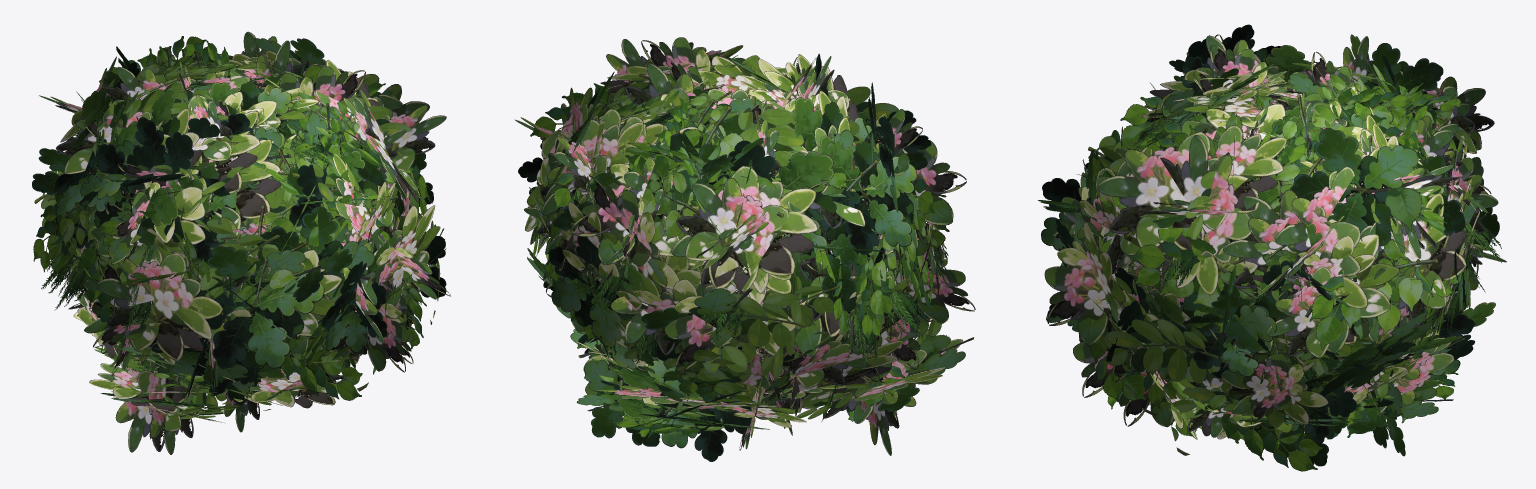
The model's file is bush_flowers.glb.
The picture shows the model from 3 angles, left to right: view 1: azimuth 30°, elevation 25°; view 2: azimuth 150°, elevation 25°; view 3: azimuth 270°, elevation 25°; orthographic projection. The views are drawn at different scales.
Parts seen in each view (by area): view 1: Fable_bush_flowers; view 2: Fable_bush_flowers; view 3: Fable_bush_flowers.
Part boxes in pixels (box(x1,y1,x2,y2)): Fable_bush_flowers: box(32, 31, 450, 454); Fable_bush_flowers: box(515, 37, 975, 461); Fable_bush_flowers: box(1038, 24, 1506, 471).
Size of the model in its own units: 1.76 by 1.57 by 1.78.
2 materials, 2 textured.
